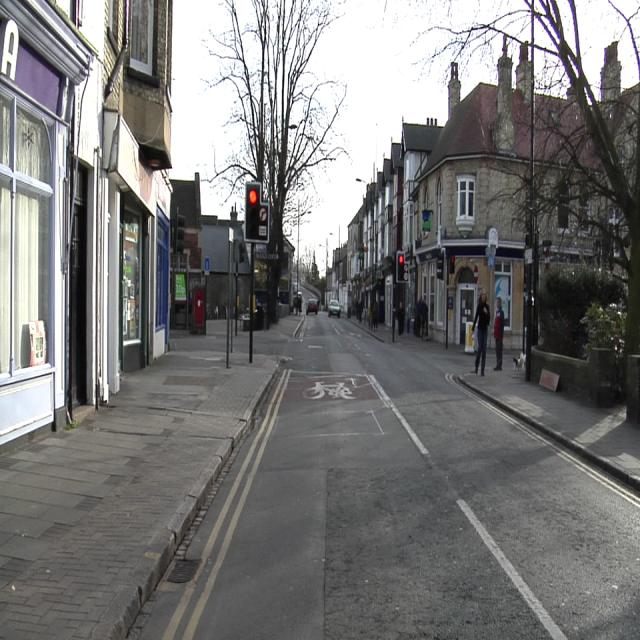Building: (1, 0, 231, 442), (331, 77, 527, 351)
Car: (328, 299, 339, 316), (307, 298, 318, 313)
Road: (129, 313, 637, 639)
Tree: (201, 1, 347, 317), (534, 0, 639, 355)
person: (473, 293, 490, 373), (494, 298, 505, 369)
